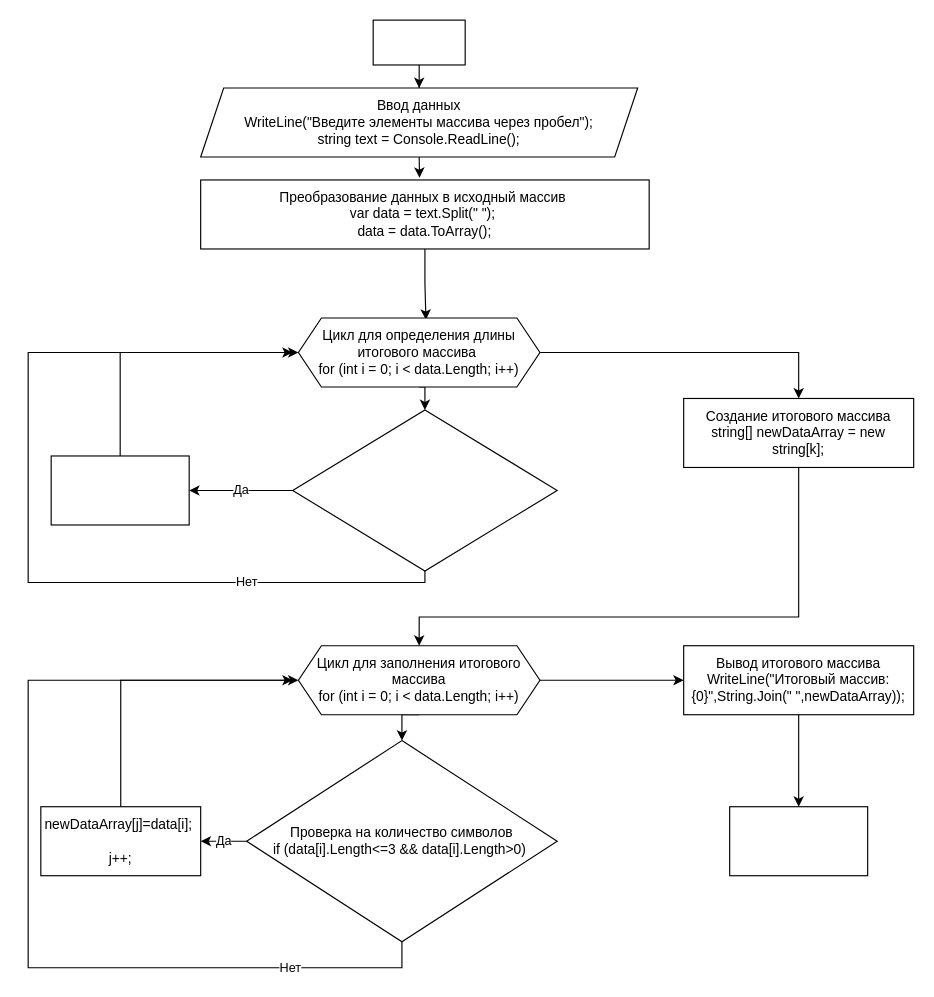
Some shapes in this 934 by 997 pixel diagram are drawn without their labels. The centre of each missing label's shape, as x and y in pixels:
"End" belongs at (798,841).
"Start" belongs at (418,42).
"Проверка на количество символов if (data[i].Length<=3 )" belongs at (424,490).
"Счётчик длины итогового массива k++" belongs at (119,490).
